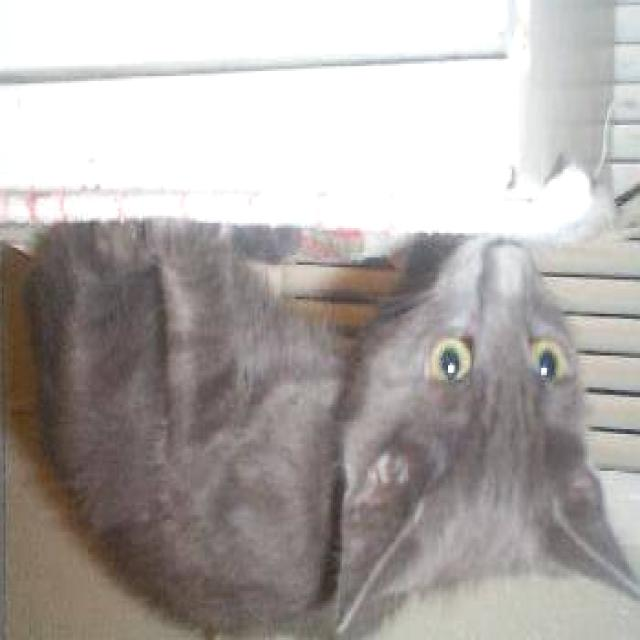Kucing: (32, 132, 620, 640)
